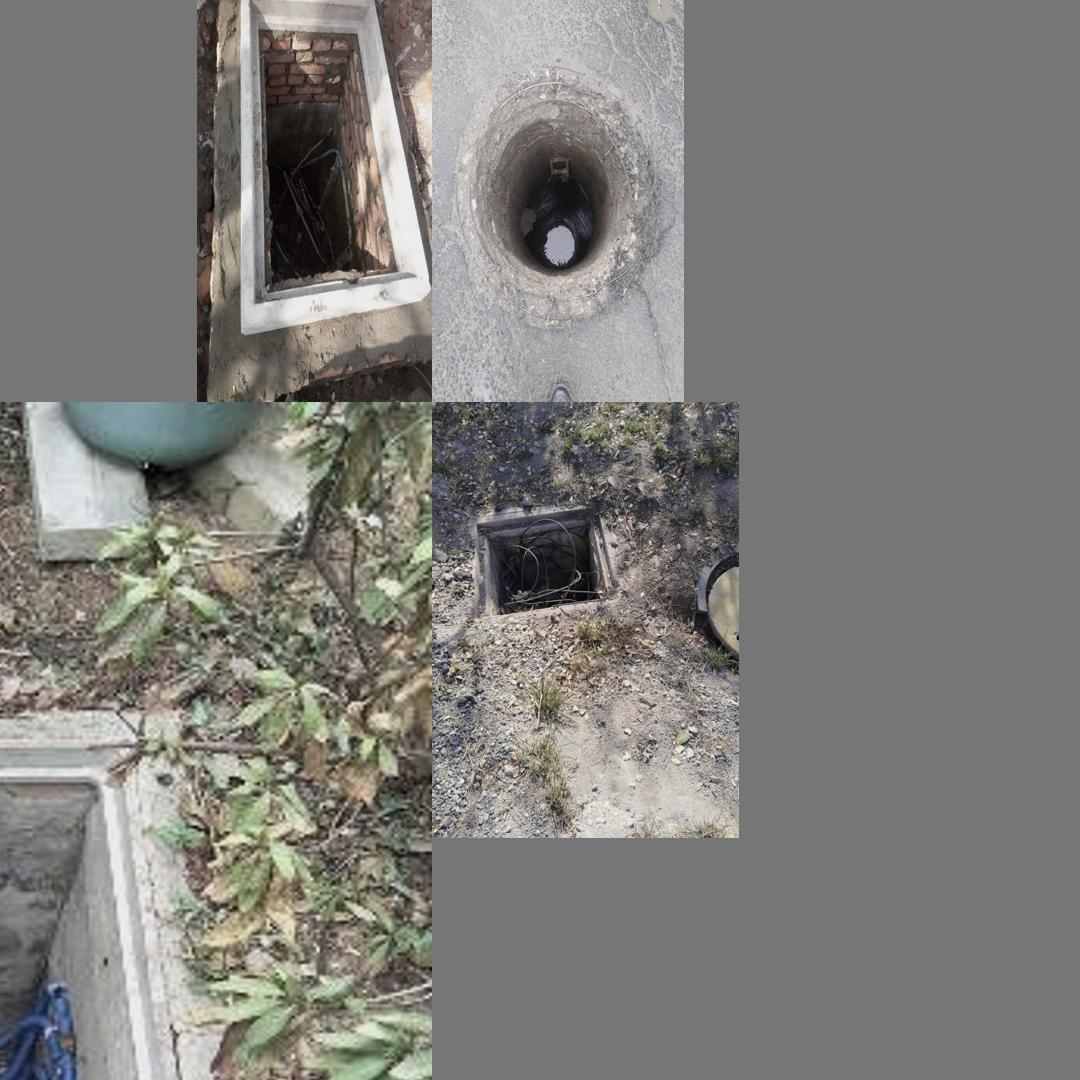lose: (0, 739, 191, 1080), (240, 0, 432, 334), (455, 85, 657, 317), (460, 496, 637, 635)
